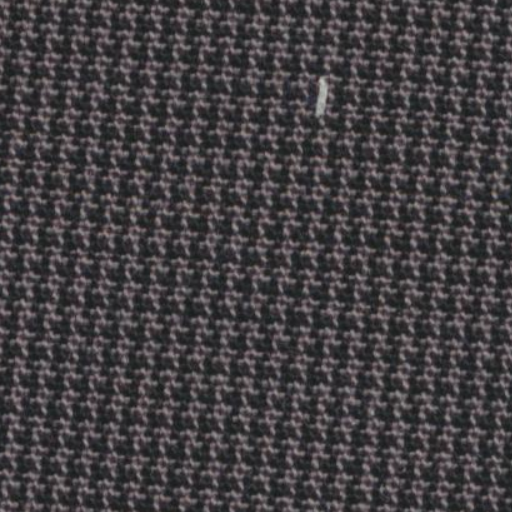DuanSha: (300, 70, 336, 128)
